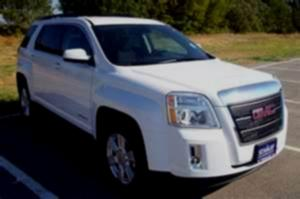GMC: (247, 102, 281, 121)
